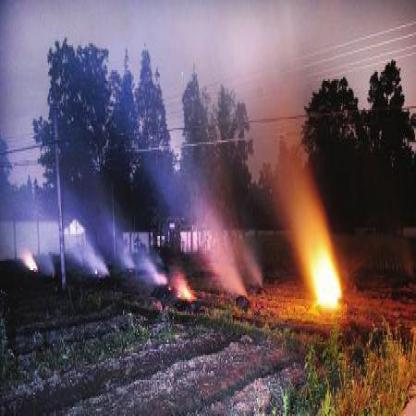fire: (303, 226, 344, 313), (174, 270, 192, 297), (151, 267, 170, 288), (24, 252, 40, 272)
smoke: (271, 144, 320, 248), (204, 221, 245, 284), (80, 238, 104, 271), (121, 245, 130, 266), (141, 252, 154, 264)
